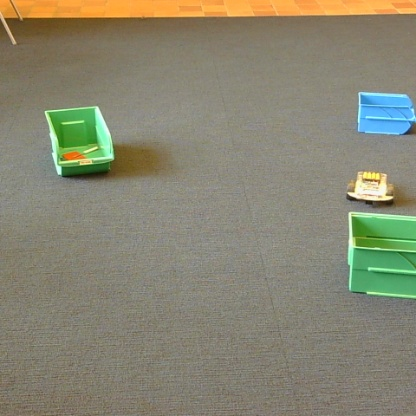robot: (347, 171, 394, 204)
